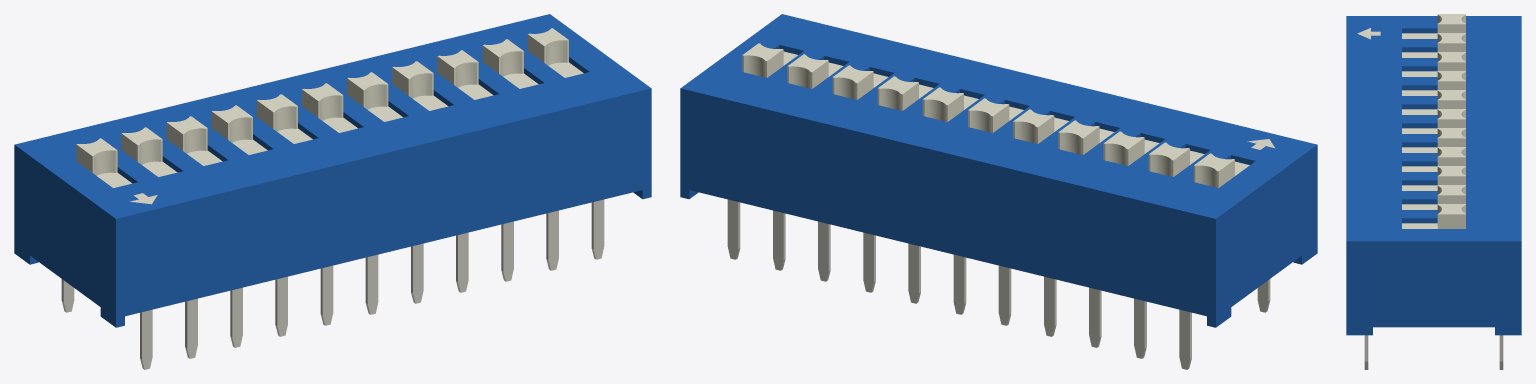
The model's file is kc-sw_dip_spstx11_slide_9.78x30.12mm_w7.62mm_p2.54mm.glb.
The picture shows the model from 3 angles, left to right: view 1: azimuth 30°, elevation 25°; view 2: azimuth 150°, elevation 25°; view 3: azimuth 270°, elevation 25°; orthographic projection. The views are drawn at different scales.
Parts seen in each view (by area): view 1: 0_0.16666666666666666_0.5_0, 0.75_0.75_0.6666666666666666_0, 0.6666666666666666_0.6666666666666666_0.5833333333333334_0.8; view 2: 0_0.16666666666666666_0.5_0, 0.75_0.75_0.6666666666666666_0, 0.6666666666666666_0.6666666666666666_0.5833333333333334_0.8; view 3: 0_0.16666666666666666_0.5_0, 0.75_0.75_0.6666666666666666_0, 0.6666666666666666_0.6666666666666666_0.5833333333333334_0.8.
Boxes of the visible parts, x1=… form: 0_0.16666666666666666_0.5_0: x1=14, y1=14, x2=651, y2=327; 0.75_0.75_0.6666666666666666_0: x1=76, y1=28, x2=583, y2=204; 0.6666666666666666_0.6666666666666666_0.5833333333333334_0.8: x1=61, y1=199, x2=604, y2=369; 0_0.16666666666666666_0.5_0: x1=680, y1=14, x2=1317, y2=327; 0.75_0.75_0.6666666666666666_0: x1=742, y1=43, x2=1274, y2=187; 0.6666666666666666_0.6666666666666666_0.5833333333333334_0.8: x1=727, y1=199, x2=1270, y2=369; 0_0.16666666666666666_0.5_0: x1=1346, y1=16, x2=1521, y2=335; 0.75_0.75_0.6666666666666666_0: x1=1357, y1=14, x2=1465, y2=228; 0.6666666666666666_0.6666666666666666_0.5833333333333334_0.8: x1=1364, y1=335, x2=1503, y2=369.
Bounding box in the file's own units: 3.01 × 0.995 × 0.9899.
